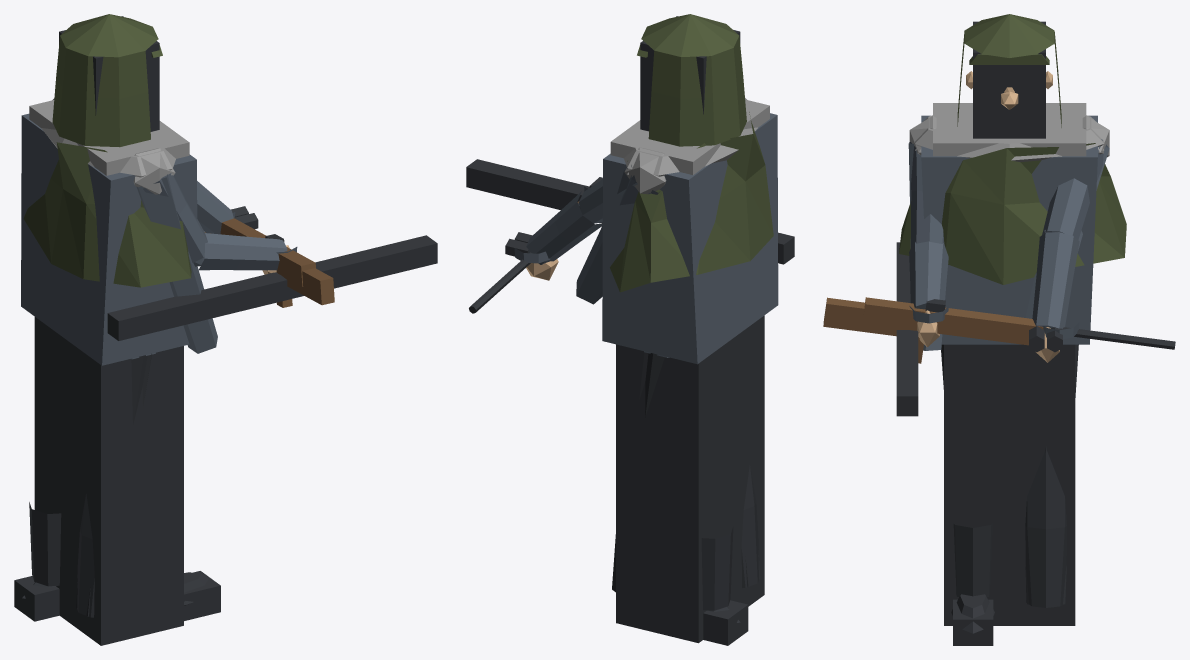
The model's file is veyran_scout.glb.
3 views of the same model, side by side, from view 1: azimuth 30°, elevation 25°; view 2: azimuth 150°, elevation 25°; view 3: azimuth 270°, elevation 25° (orthographic).
Parts seen in each view (by area): view 1: leg_l (×3), torso (×2), arm_r (×3), head (×2), leg_r (×2), arm_l; view 2: leg_l (×3), torso (×2), head (×2), arm_l (×2), arm_r (×2), leg_r; view 3: leg_l (×2), torso (×2), arm_r (×3), head (×2), arm_l, leg_r (×2).
Part boxes in pixels (x1,y1,x2,y2): leg_l (×3): [14, 317, 183, 645]; torso (×2): [21, 98, 197, 365]; arm_r (×3): [107, 148, 437, 353]; head (×2): [52, 14, 162, 147]; leg_r (×2): [76, 353, 220, 620]; arm_l: [197, 181, 258, 234]; leg_l (×3): [612, 315, 764, 645]; torso (×2): [602, 98, 778, 364]; head (×2): [637, 14, 746, 146]; arm_l (×2): [505, 147, 666, 304]; arm_r (×2): [466, 159, 794, 313]; leg_r: [741, 465, 759, 587]; leg_l (×2): [944, 344, 1078, 625]; torso (×2): [899, 103, 1126, 344]; arm_r (×3): [823, 116, 1175, 416]; head (×2): [957, 14, 1061, 138]; arm_l: [1029, 116, 1109, 362]; leg_r (×2): [941, 344, 994, 645].
Bounding box in the file's own units: 1.07 × 1.79 × 0.9654.
